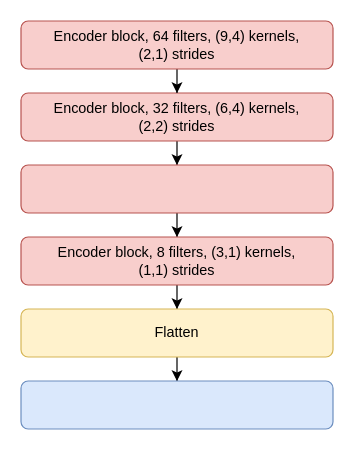
Image size: 354x450. Some labels were removed from this diagram. Here are the shapes that lost their labels. From the top down, the centre of each, then its label:
At [176,188]: "Encoder block, 16 filters, (3,2) kernels, (2,2) strides".
At [176,404]: "Dense, 100 units (latent vector)".
